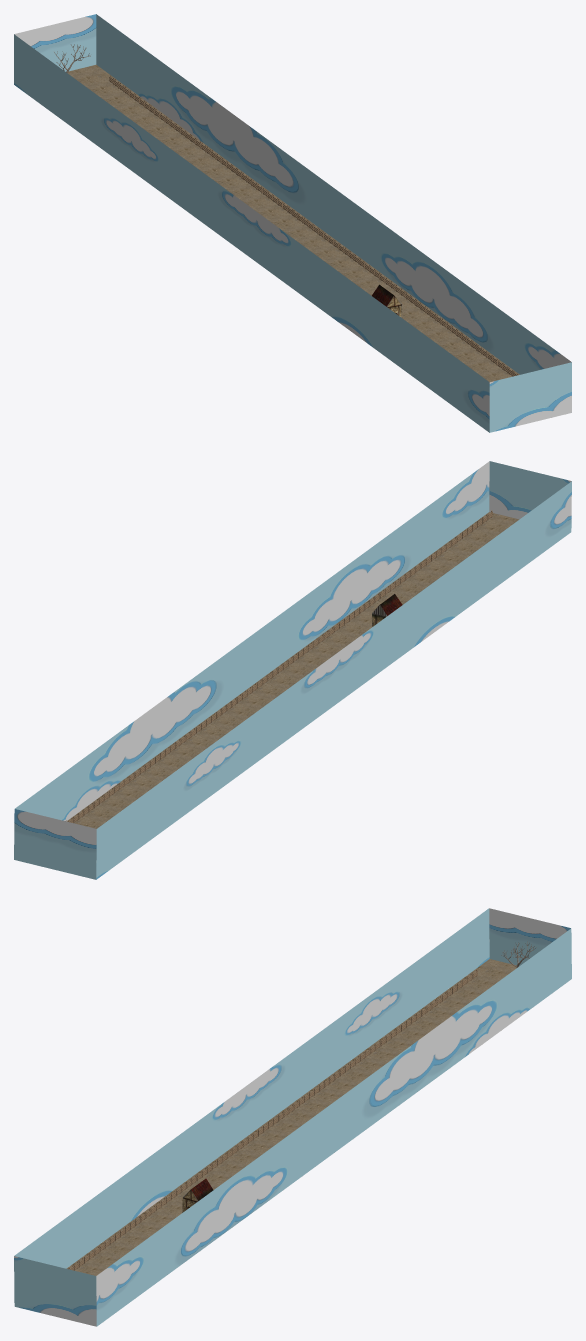
Rendered from WorldSquidGames.glb.
3 views of the same model, one above another, from view 1: azimuth 30°, elevation 25°; view 2: azimuth 150°, elevation 25°; view 3: azimuth 330°, elevation 25° (orthographic).
Parts seen in each view (by area): view 1: Walls, Floor, WoodenFence; view 2: Walls, Floor, WoodenFence; view 3: Walls, Floor, WoodenFence.
Part boxes in pixels (x1=…): Walls: x1=14, y1=14, x2=571, y2=432; Floor: x1=67, y1=64, x2=519, y2=382; WoodenFence: x1=109, y1=75, x2=519, y2=376; Walls: x1=14, y1=461, x2=571, y2=879; Floor: x1=67, y1=512, x2=519, y2=828; WoodenFence: x1=67, y1=510, x2=492, y2=823; Walls: x1=14, y1=908, x2=571, y2=1326; Floor: x1=66, y1=959, x2=519, y2=1275; WoodenFence: x1=68, y1=969, x2=477, y2=1270.
Bounding box in the file's own units: 10.03 × 5.91 × 100.
5 materials, 5 textured.
